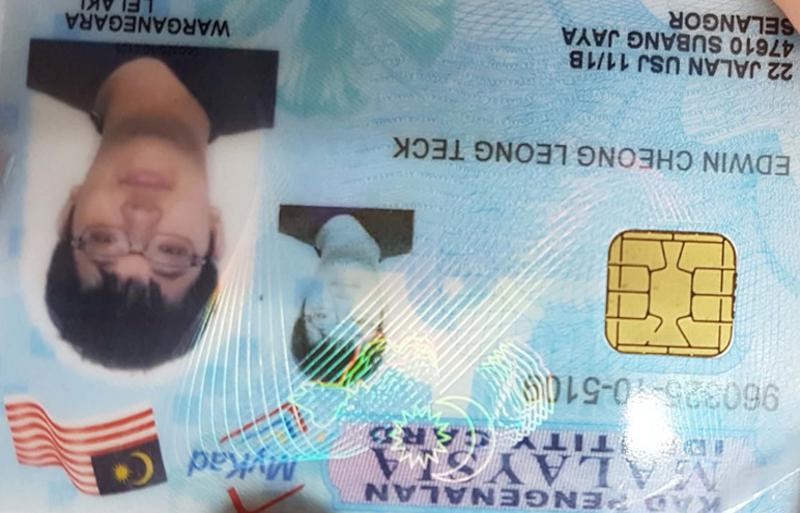hologram: (413, 186, 603, 335)
